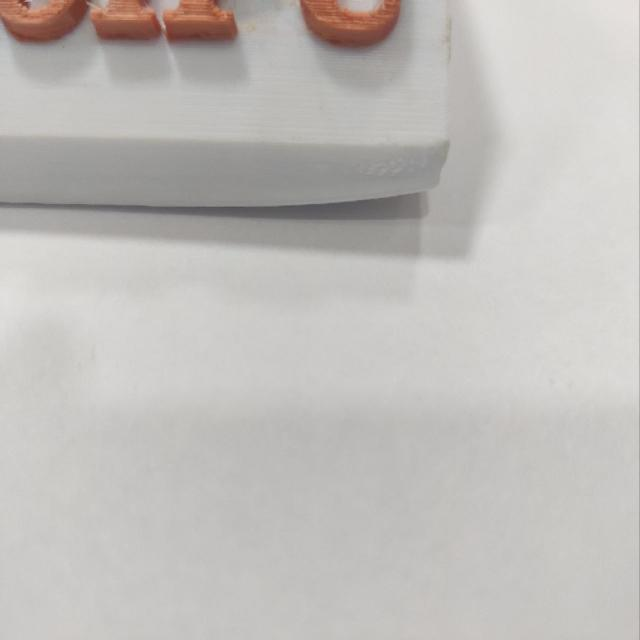Warping: (293, 164, 454, 262)
